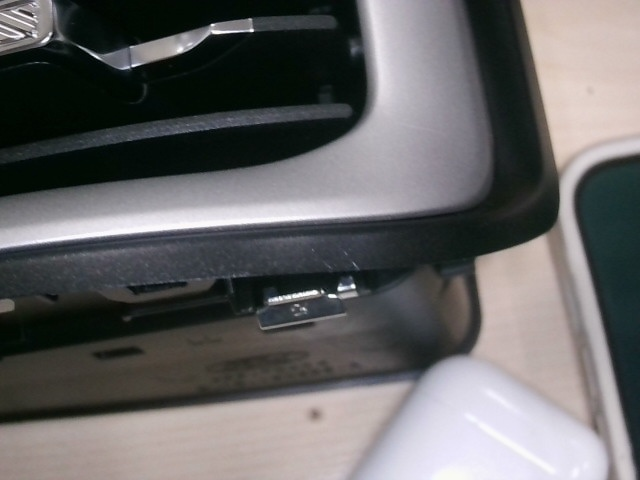NG: (323, 246, 369, 276)
